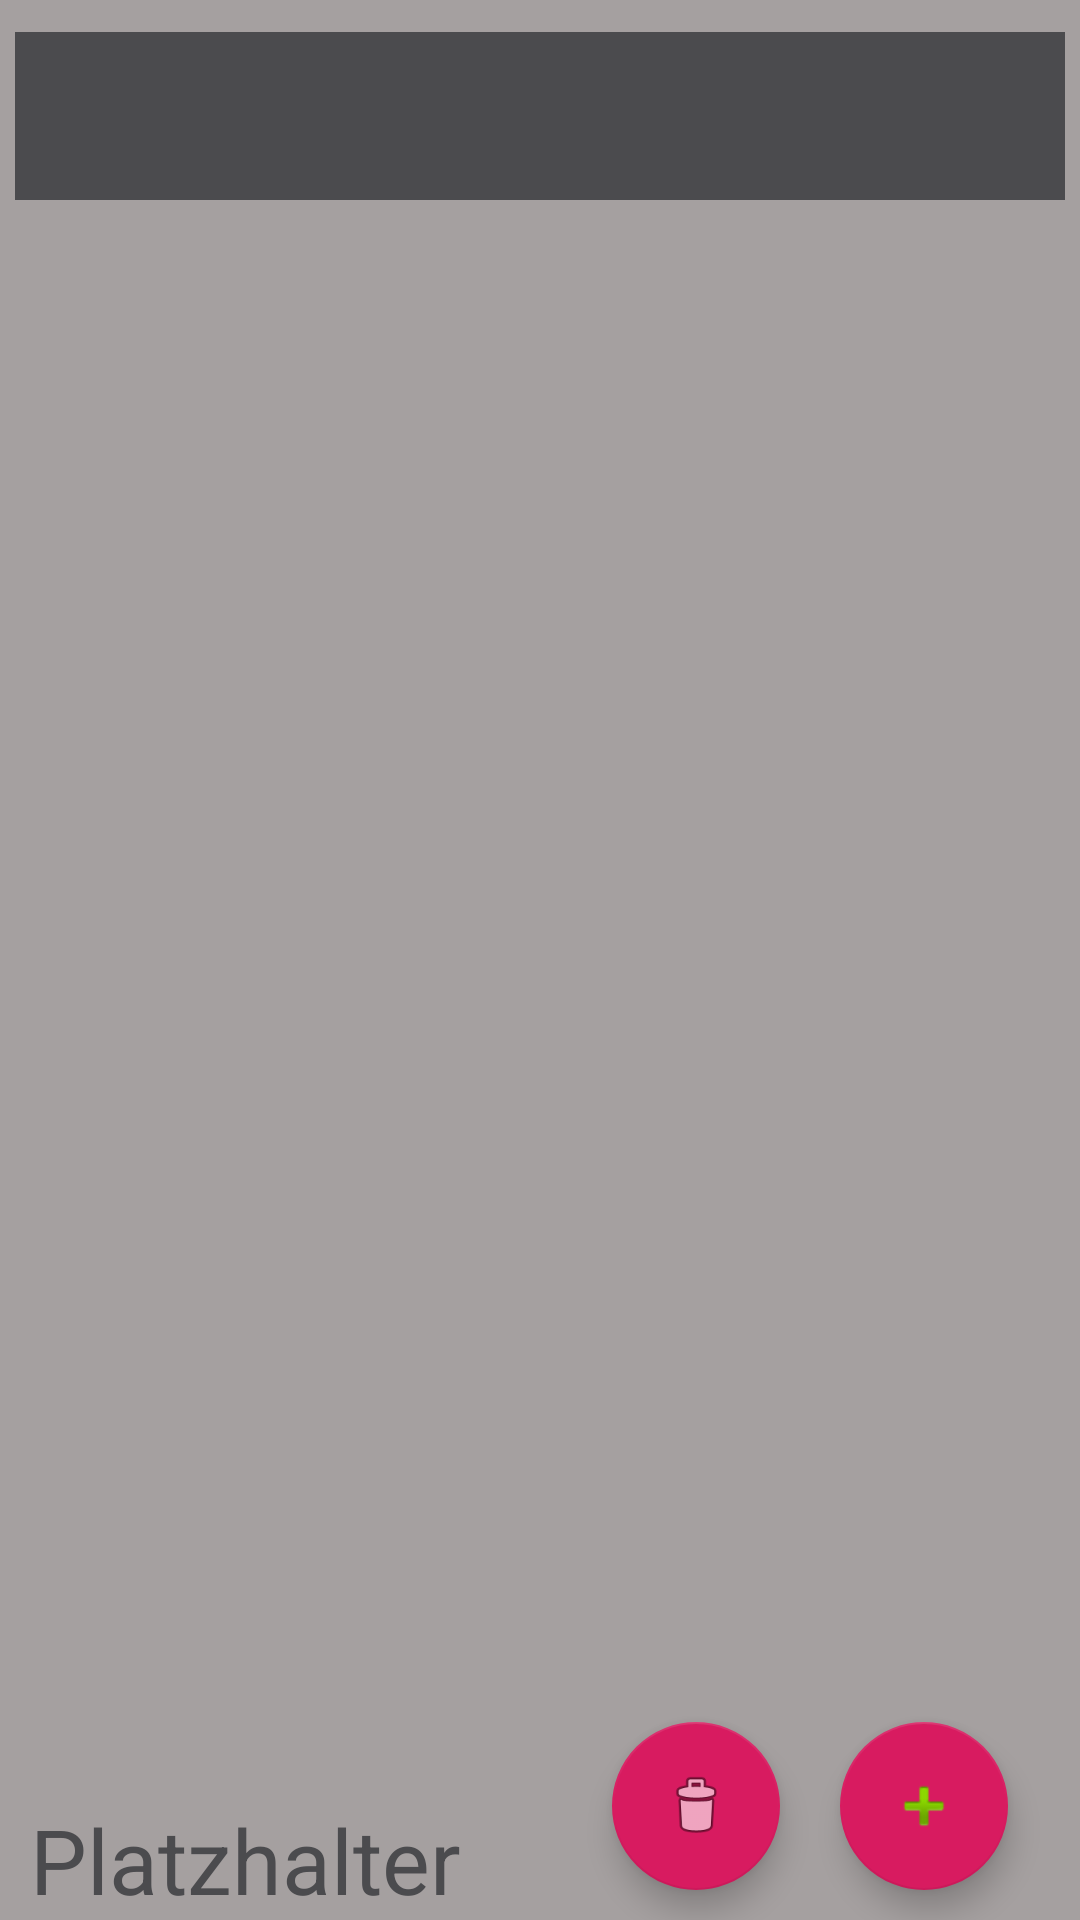

Icon bounding boxes for this 1080*1920 phone screenshot, format (x1, y1, x2, y2):
add: (840, 1722, 1008, 1890)
delete: (612, 1722, 780, 1890)
